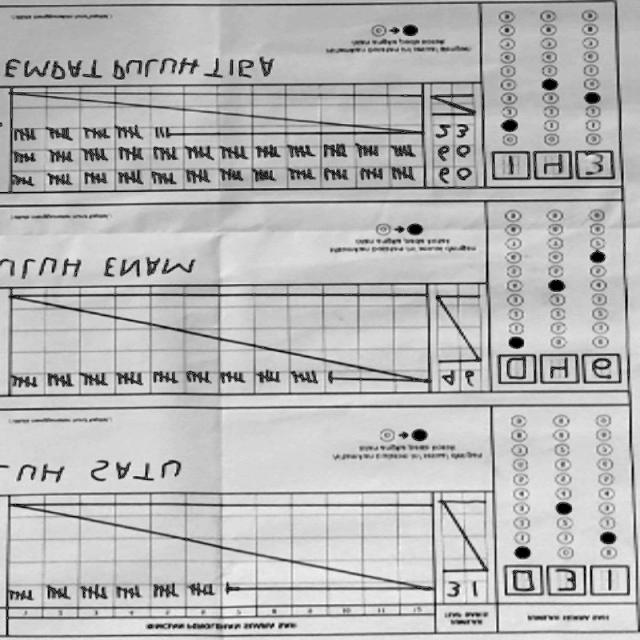Suara: (498, 348, 626, 391), (488, 148, 609, 190), (498, 566, 633, 600)
